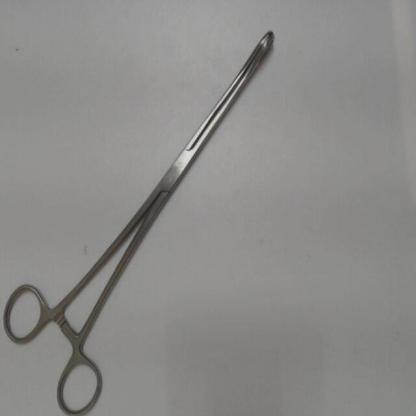Sponge Forceps: (1, 17, 286, 415)
